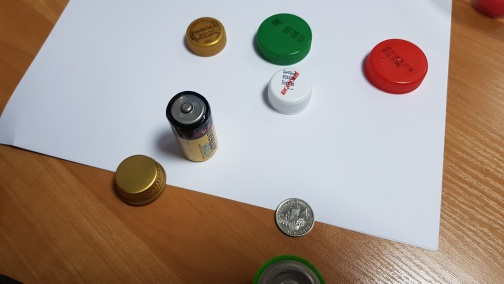coin: (274, 197, 317, 238)
